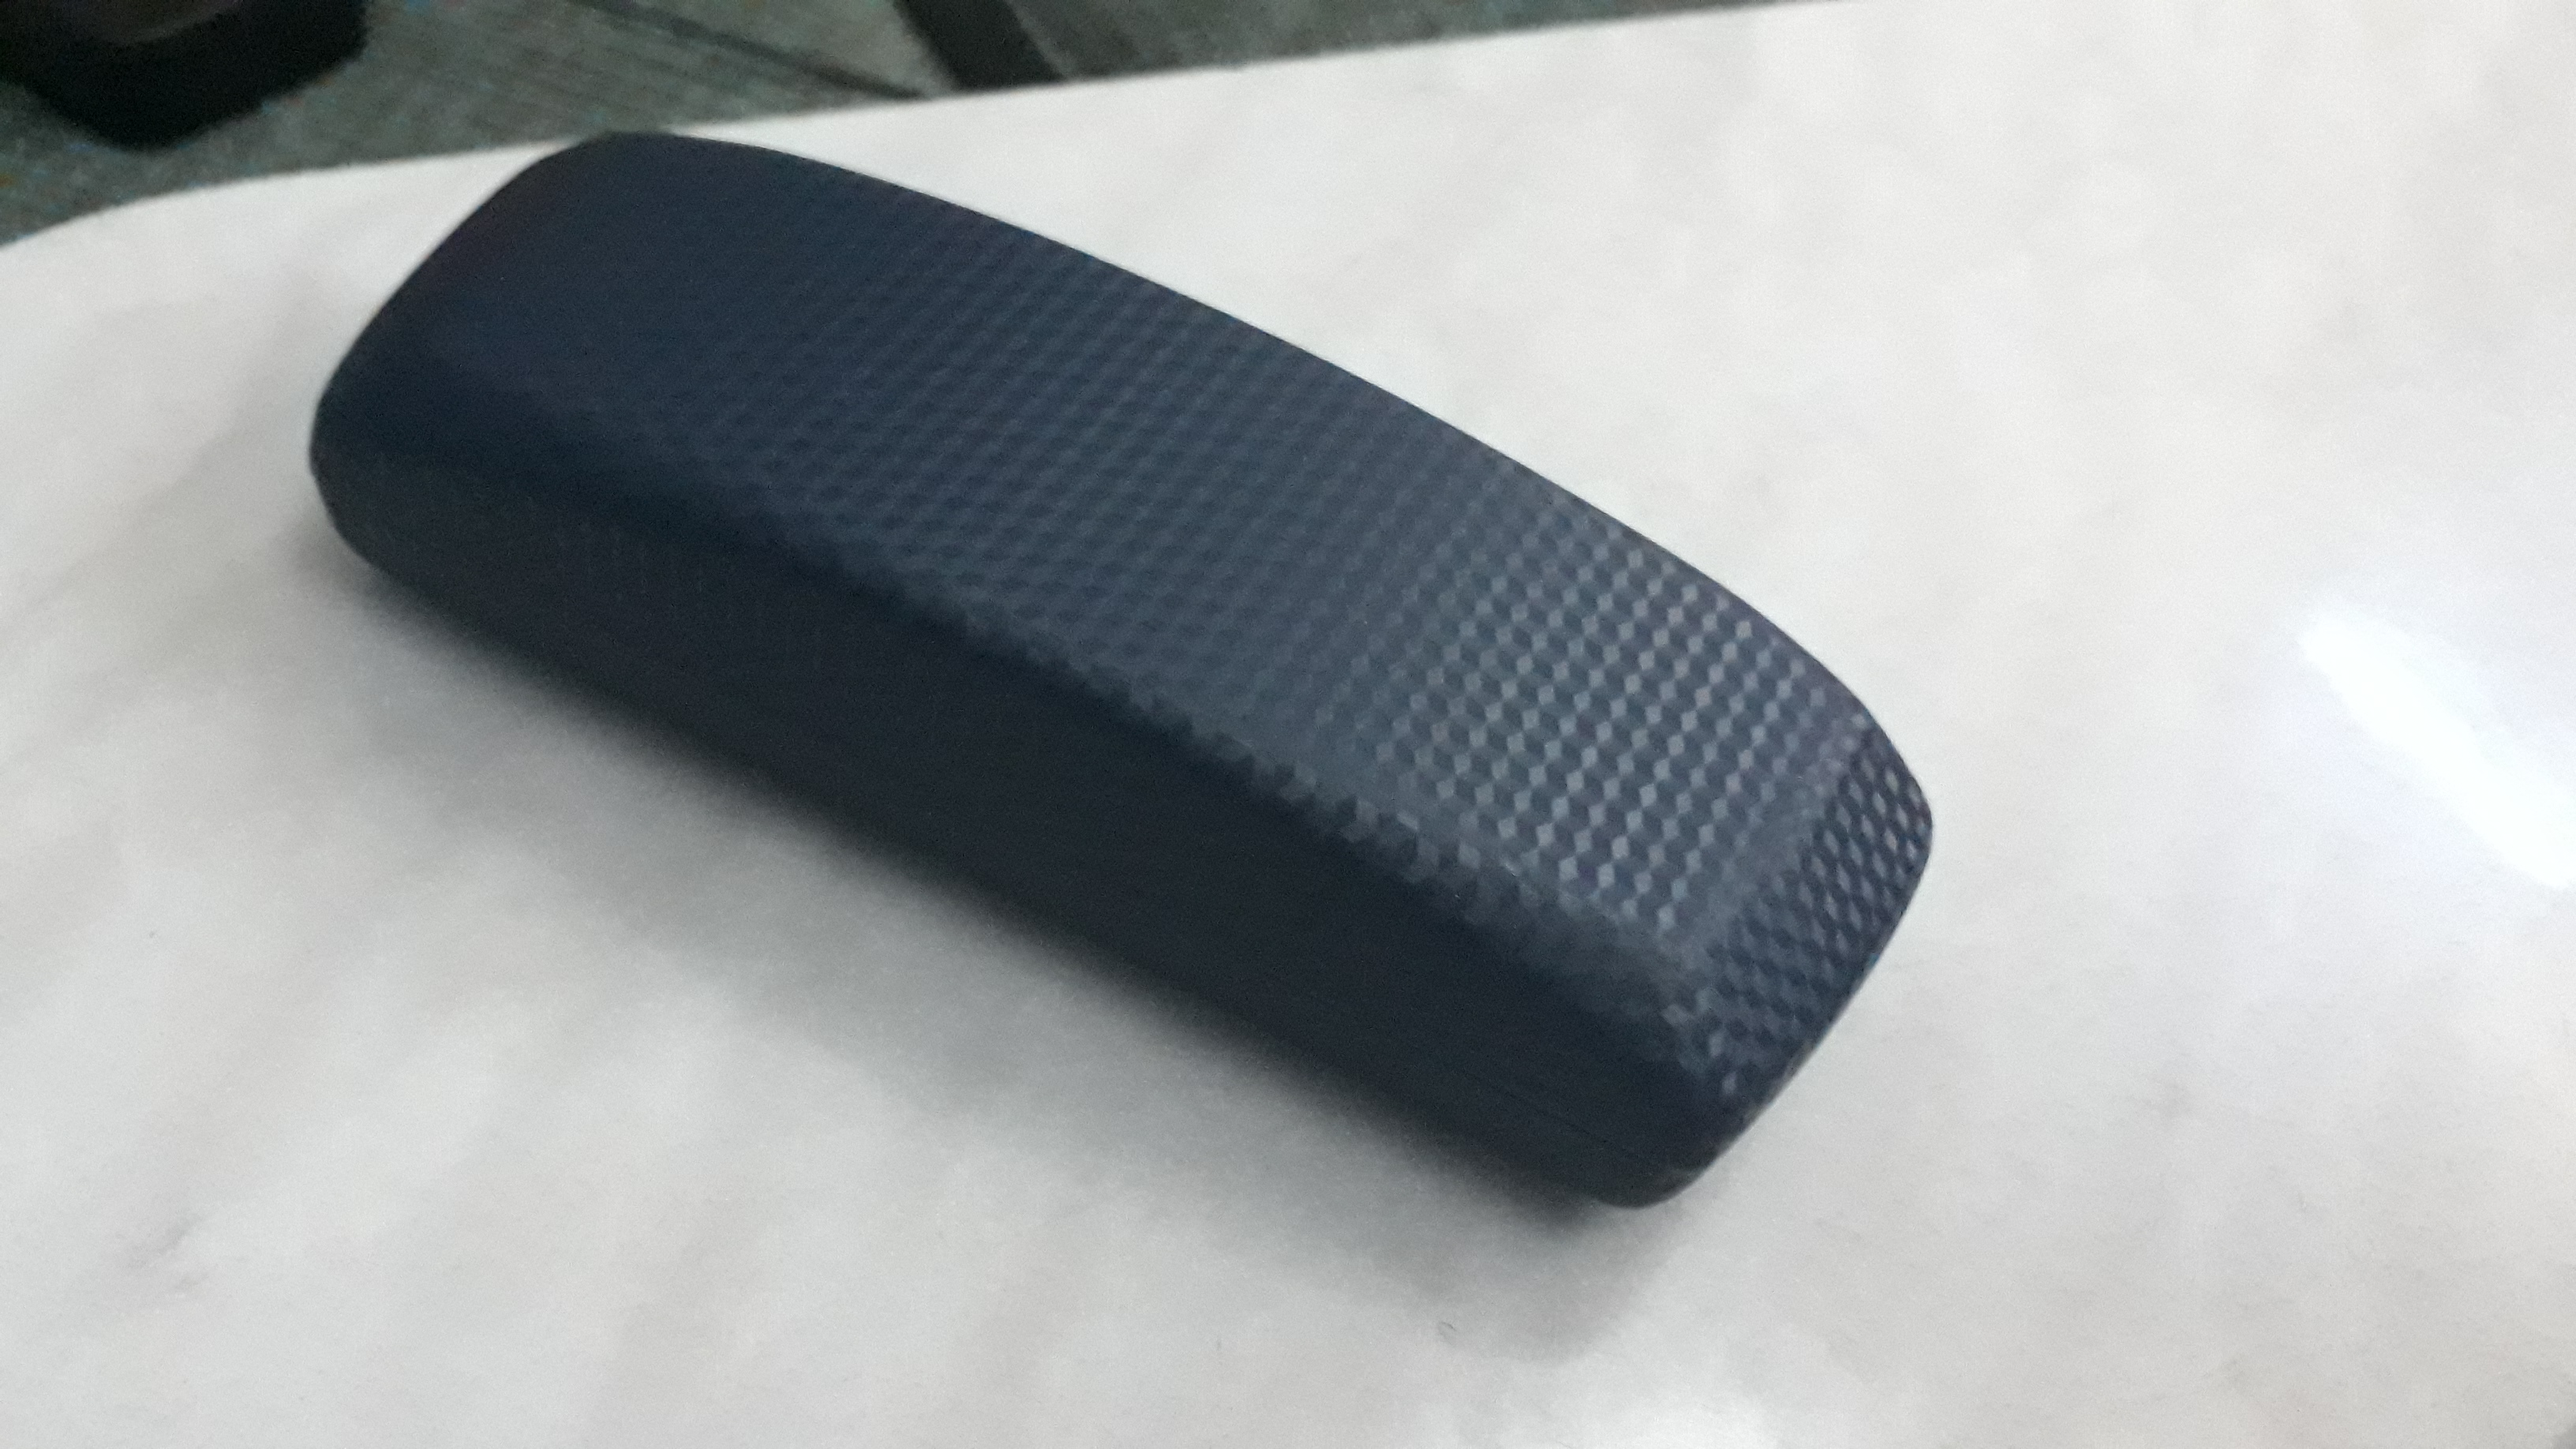nadar: (295, 78, 1925, 1261)
